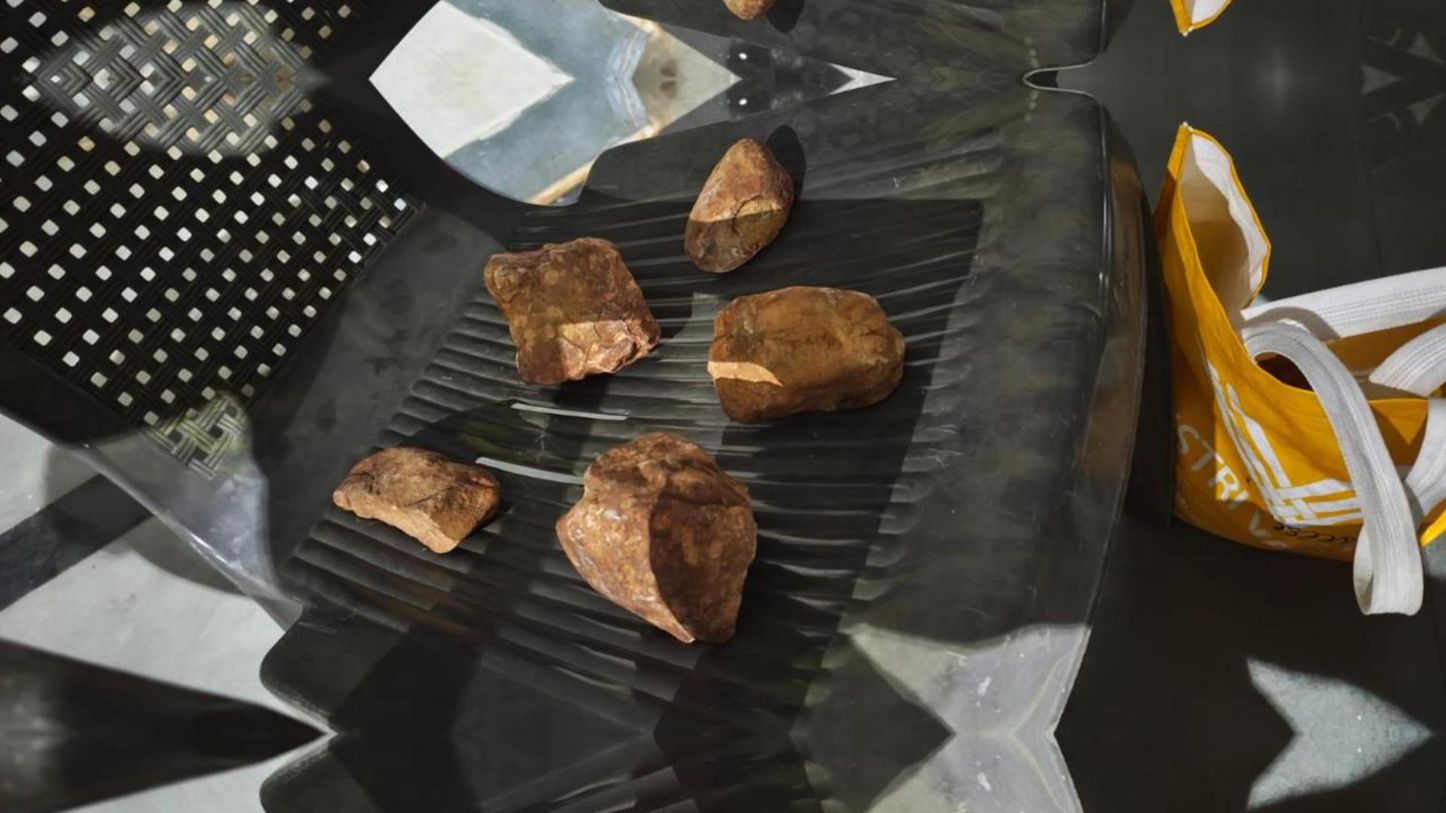rock: (556, 432, 756, 641), (707, 287, 904, 422), (484, 238, 659, 384), (333, 447, 499, 552), (685, 138, 793, 272), (722, 0, 804, 32)
